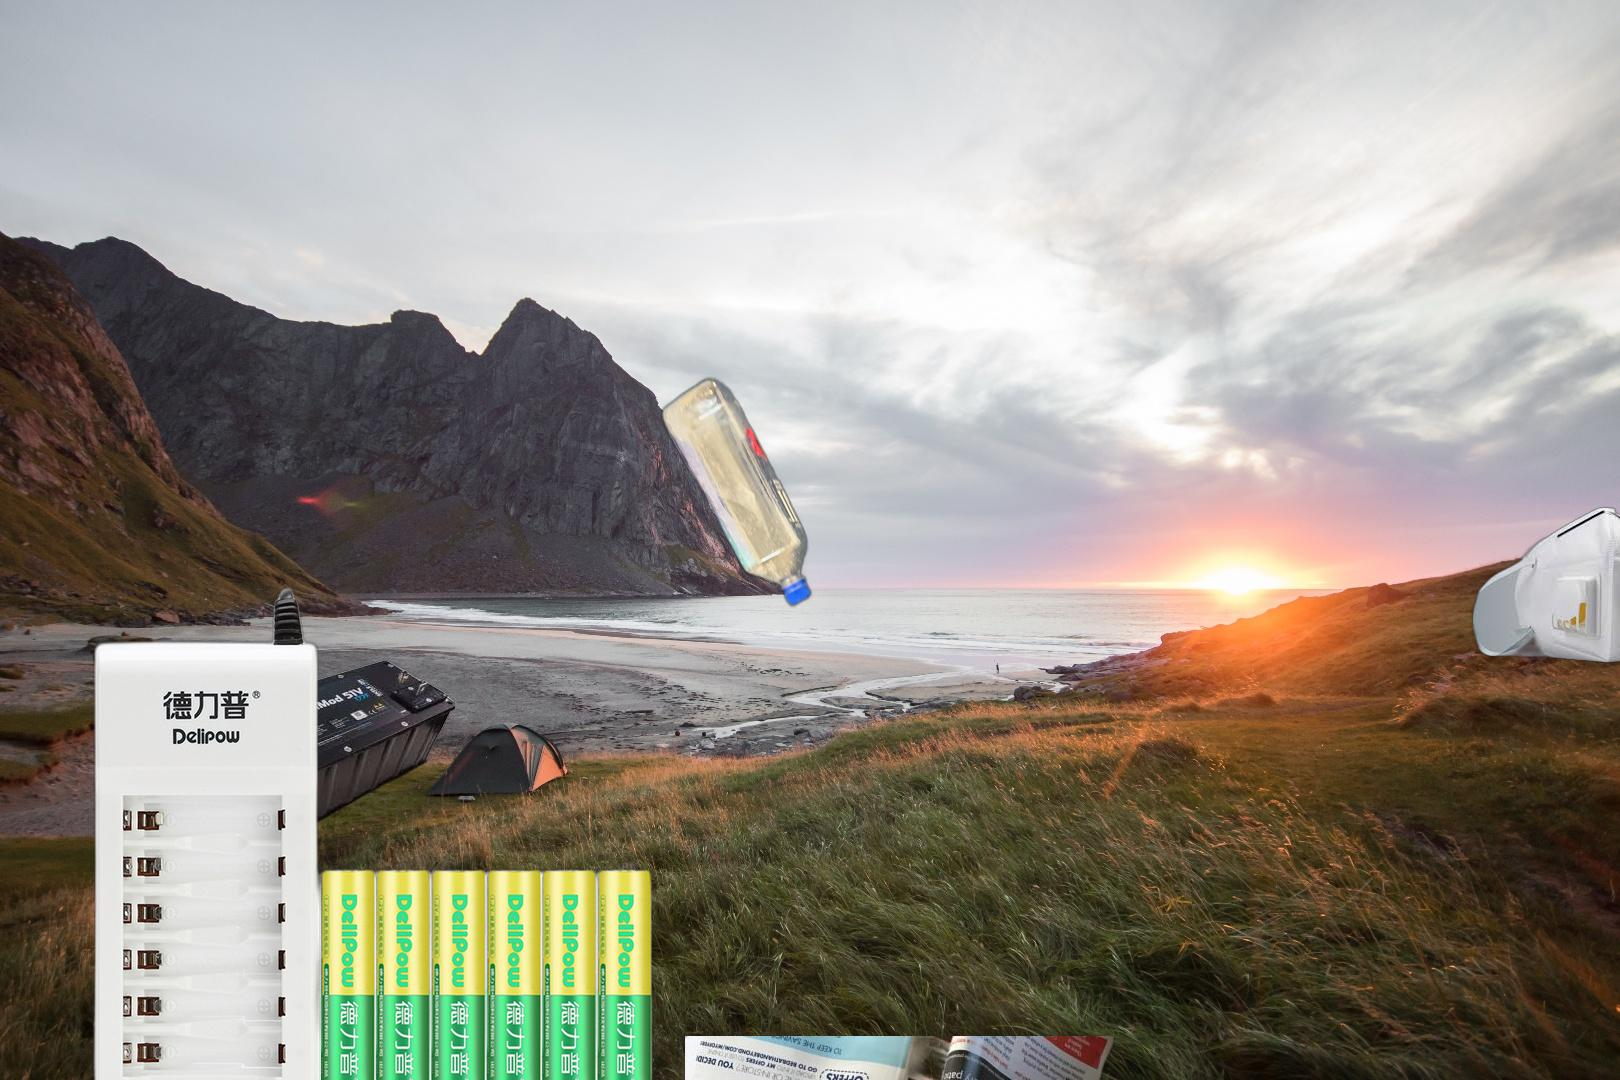battery: (89, 583, 658, 1080), (202, 658, 454, 852)
paper: (685, 1035, 1119, 1080), (885, 1051, 1302, 1080)
plastic-bottles: (656, 372, 815, 614)
trash: (1471, 504, 1620, 667)
